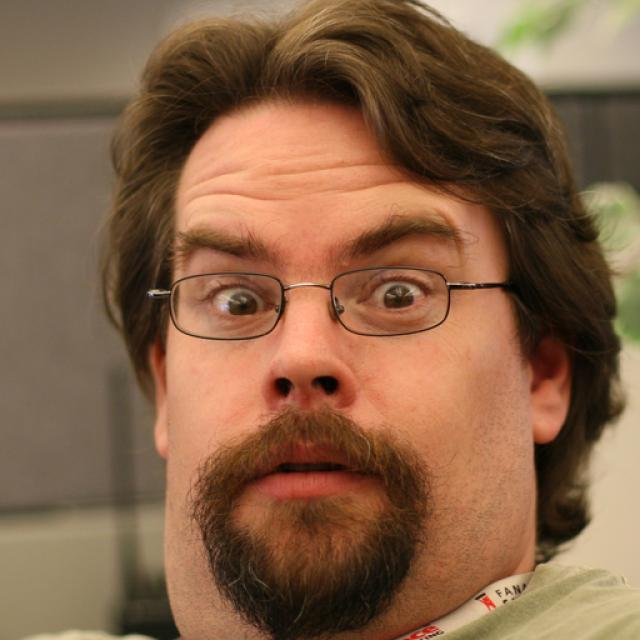surprise: (165, 91, 532, 640)
